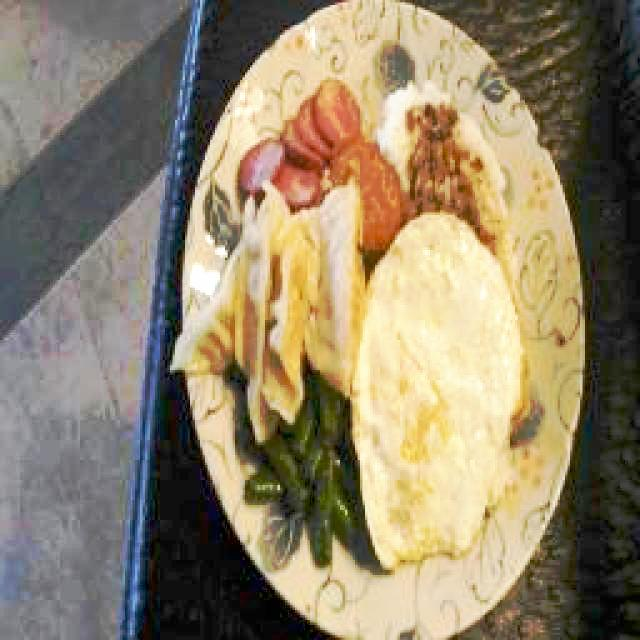chicken_nuggets: (329, 142, 399, 249)
chinese_sausage: (241, 78, 361, 206)
curry: (405, 104, 495, 242)
fried_dumplings: (243, 183, 313, 443), (312, 184, 364, 397), (172, 235, 244, 377)
fried_eggs: (358, 209, 530, 568)
rice: (383, 84, 515, 274)
water_spinach: (239, 375, 383, 569)
